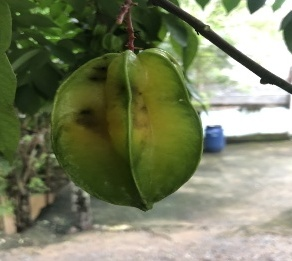Khe: (49, 45, 211, 215)
